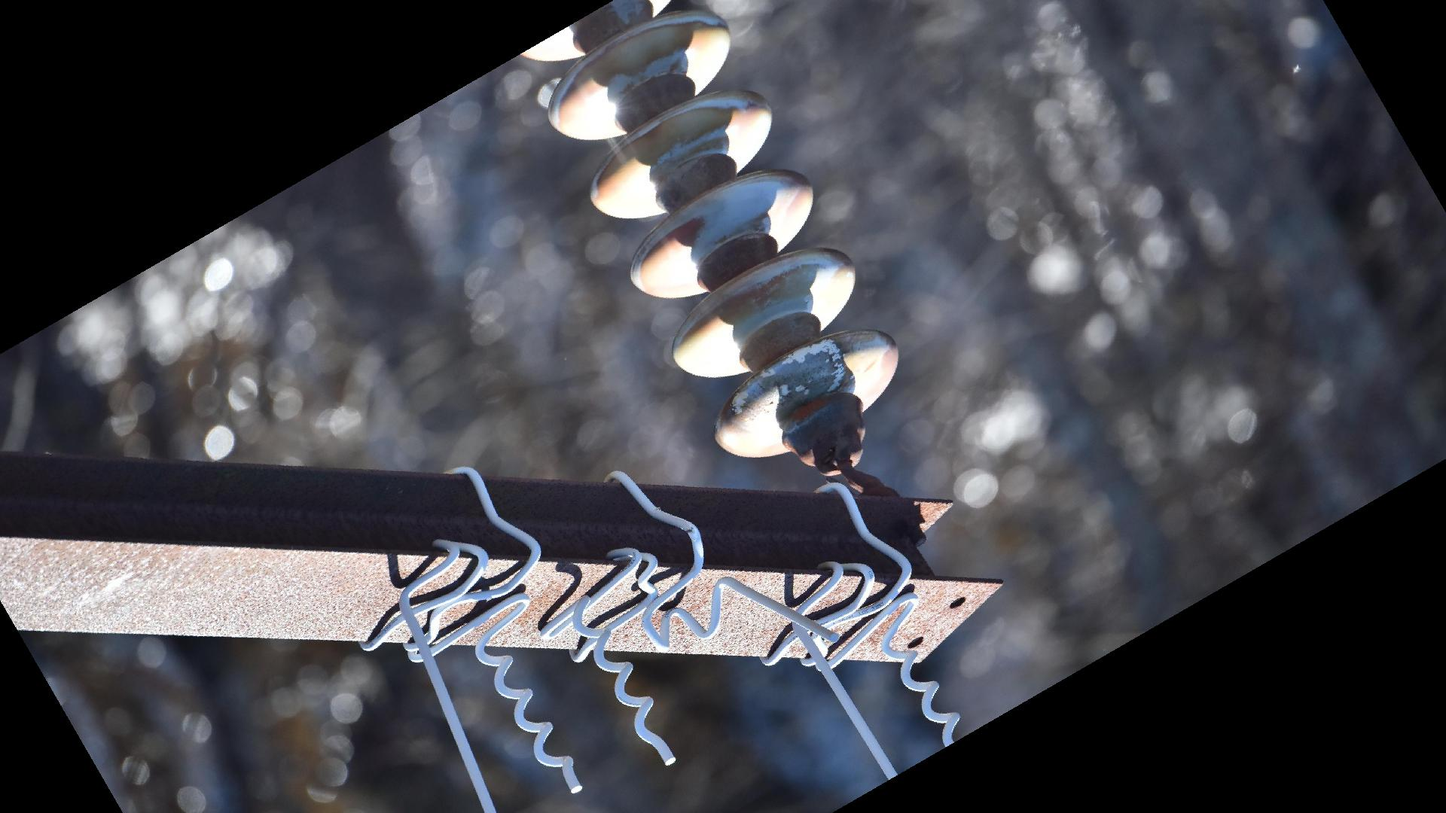insulator: (516, 1, 907, 467)
insulator_flashover: (731, 333, 847, 438)
